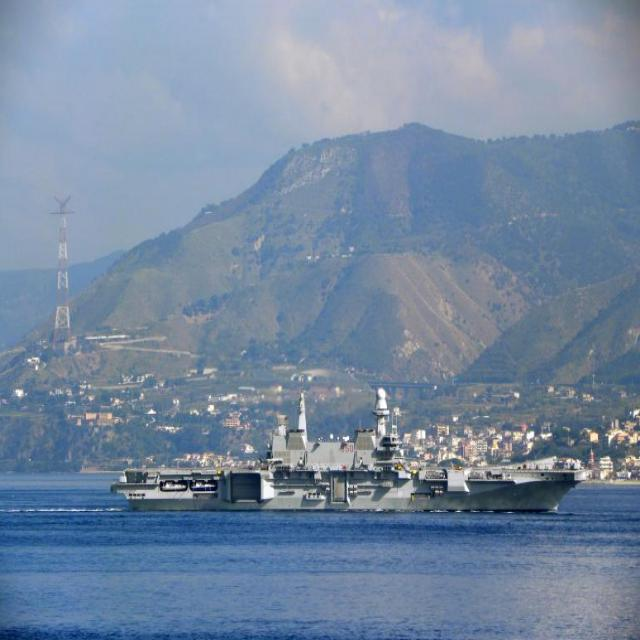Portanaves: (110, 377, 593, 518)
